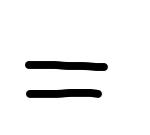eqv: (25, 61, 108, 98)
